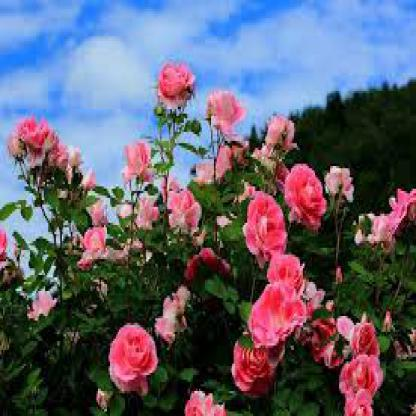Rose-Mawar: (1, 60, 416, 415)
